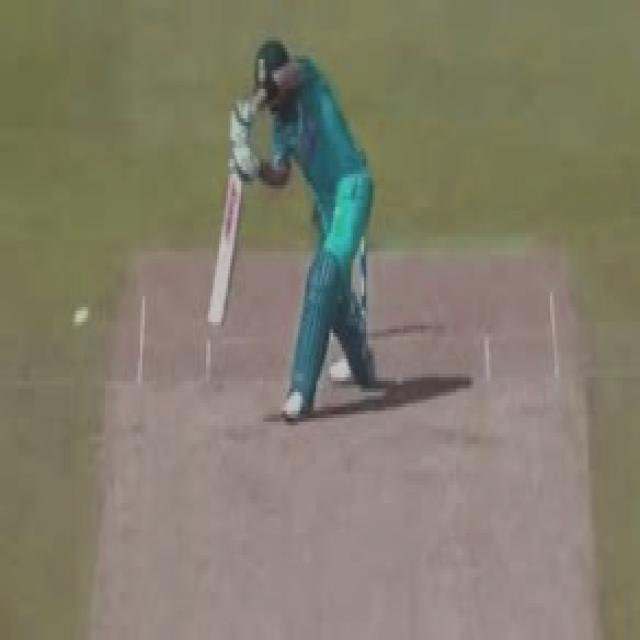bat: (196, 169, 239, 332)
toe: (195, 314, 230, 333)
